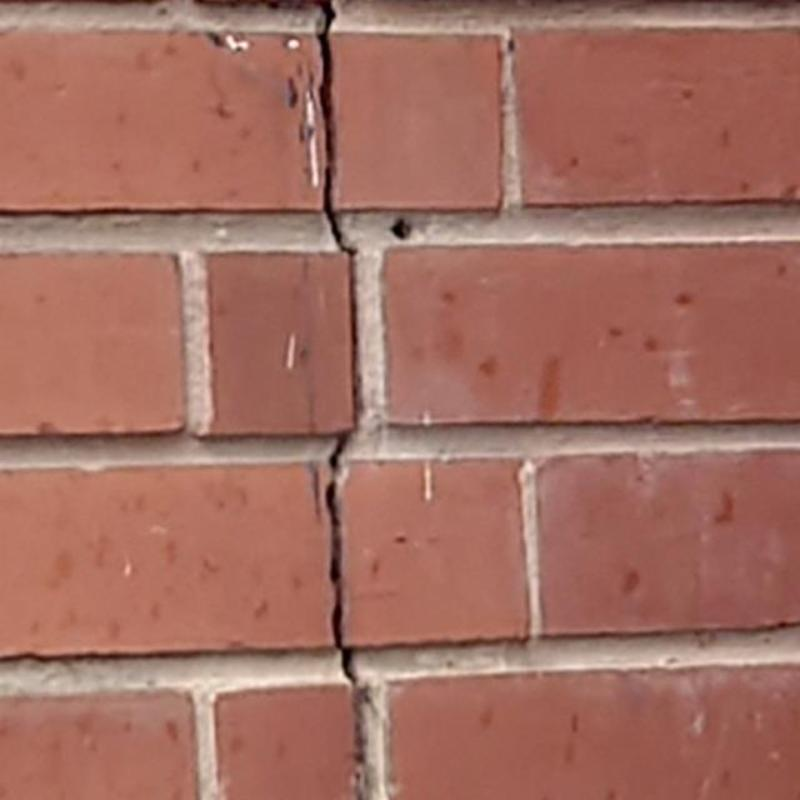pothole: (319, 0, 361, 424), (325, 425, 369, 799)
